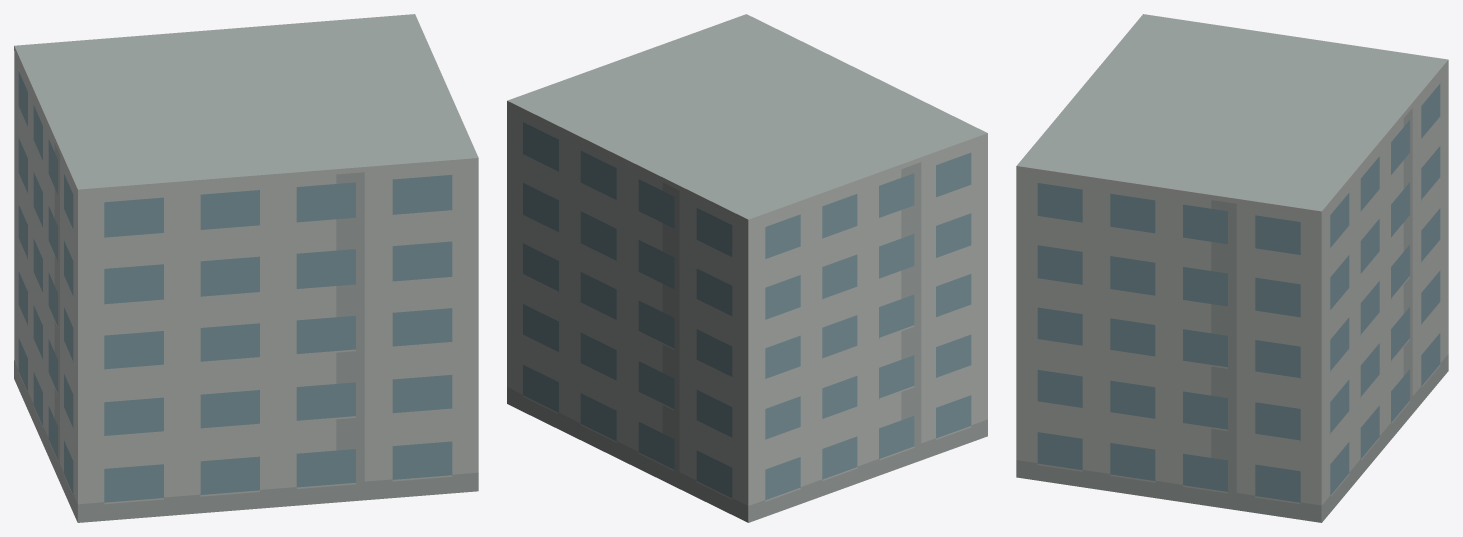
The model's file is residential-50bfdb50-52a6-4cda-ab19-0f14d2e7868a.glb.
3 renders of one model, left to right at view 1: azimuth 30°, elevation 25°; view 2: azimuth 150°, elevation 25°; view 3: azimuth 270°, elevation 25°, orthographic. The views are drawn at different scales.
Parts seen in each view (by area): view 1: residential-50bfdb50-52a6-4cda-ab19-0f14d2e7868a.tmp; view 2: residential-50bfdb50-52a6-4cda-ab19-0f14d2e7868a.tmp; view 3: residential-50bfdb50-52a6-4cda-ab19-0f14d2e7868a.tmp.
Part boxes in pixels (box(x1,y1,x2,y2)): residential-50bfdb50-52a6-4cda-ab19-0f14d2e7868a.tmp: box(14, 14, 478, 522); residential-50bfdb50-52a6-4cda-ab19-0f14d2e7868a.tmp: box(507, 14, 987, 522); residential-50bfdb50-52a6-4cda-ab19-0f14d2e7868a.tmp: box(1016, 14, 1448, 522).
Bounding box in the file's own units: 20.74 × 15.25 × 19.18.
